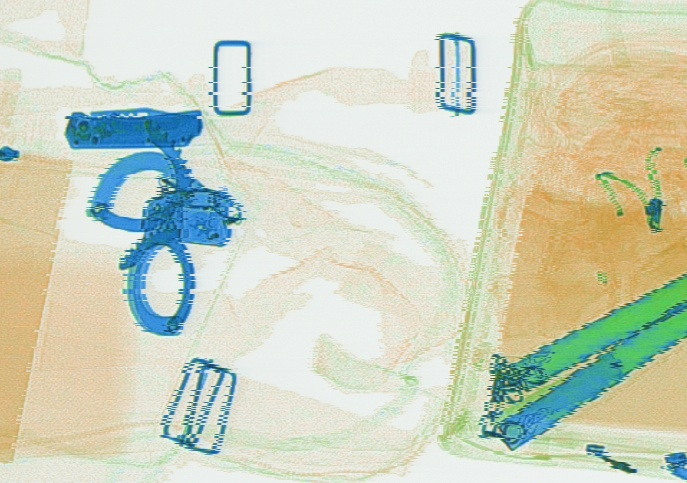handcuffs: (83, 117, 251, 338)
knife: (61, 103, 202, 150)
